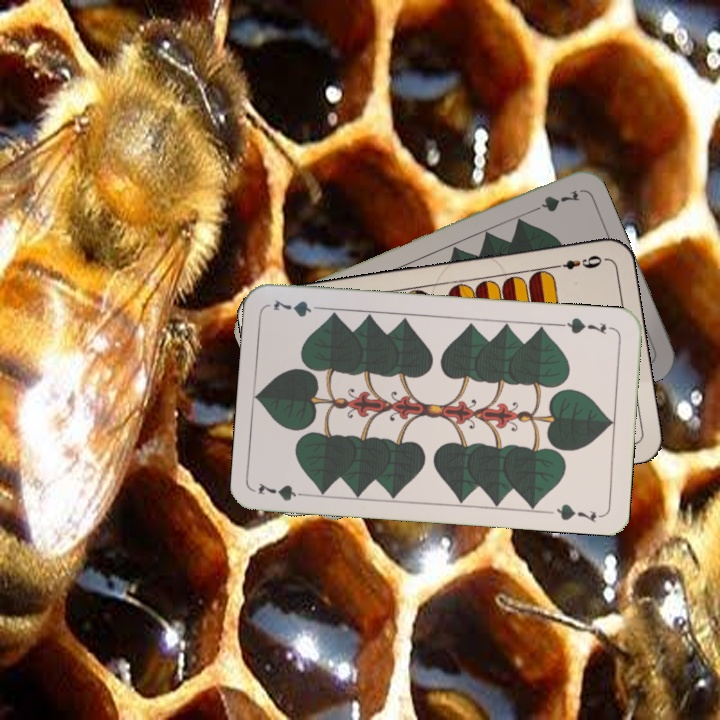E9: (548, 251, 605, 273)
G7: (524, 185, 582, 217), (254, 478, 314, 504), (557, 313, 616, 337)
